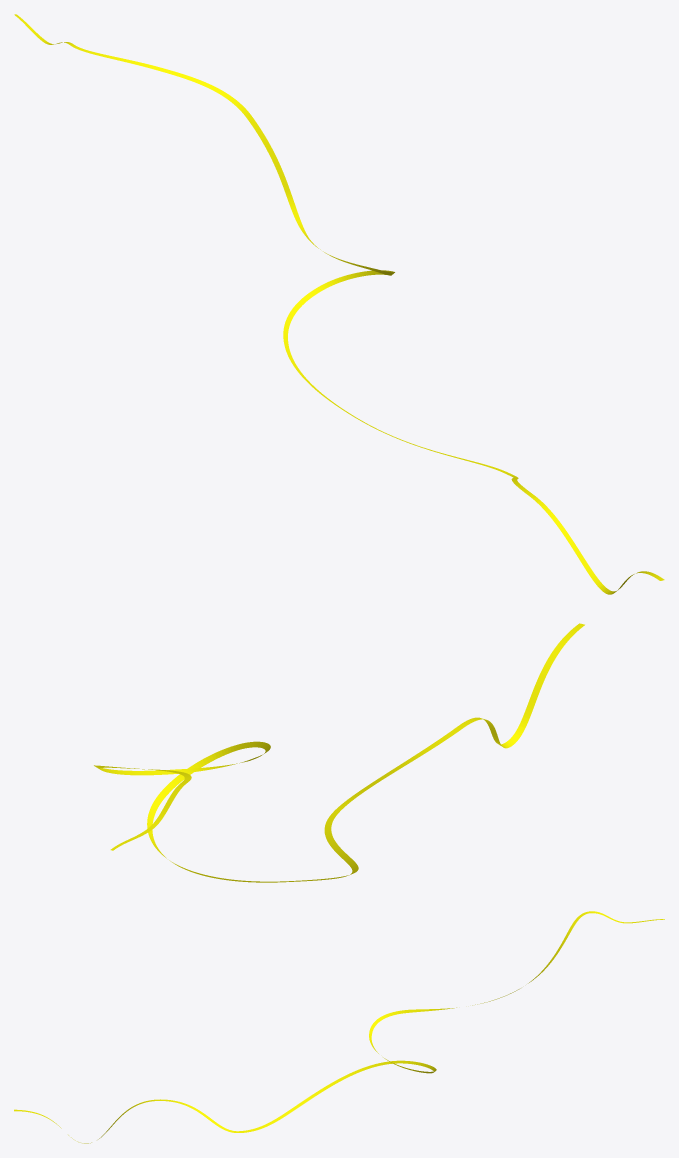
File: SkyRoad01.gltf
The picture shows the model from 3 angles, top to bottom: view 1: azimuth 30°, elevation 25°; view 2: azimuth 150°, elevation 25°; view 3: azimuth 270°, elevation 25°; orthographic projection. The views are drawn at different scales.
Visible parts, largest first — view 1: SkyRoad01; view 2: SkyRoad01; view 3: SkyRoad01.
Part boxes in pixels (x1,y1,x2,y2): SkyRoad01: [14, 14, 664, 594]; SkyRoad01: [94, 623, 584, 882]; SkyRoad01: [14, 911, 664, 1143].
Bounding box in the file's own units: 72.84 × 120 × 376.
